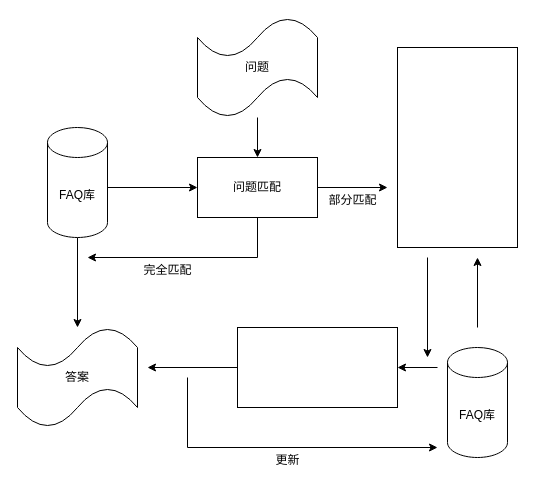
Image size: 535x493. Some labels were removed from this diagram. Each missing label, with the centre of its shape:
"相似度排序 返回最佳答案" goes at point (317, 367).
"问题分词 去停用词 问题分析 构建VSM 计算相似度" goes at point (457, 147).
